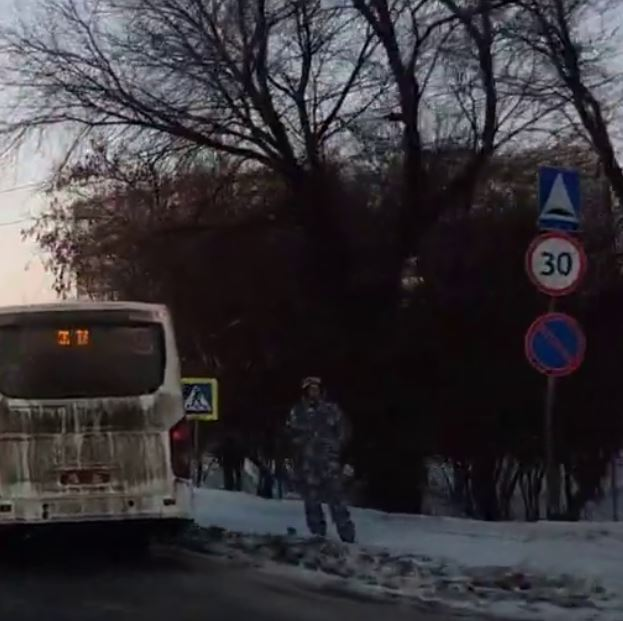30 Km Hiz Siniri: (524, 230, 594, 296)
